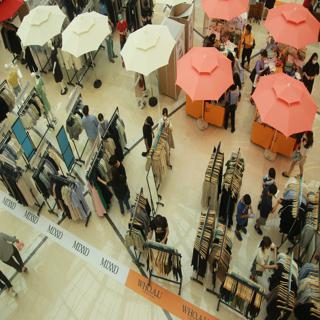person: (160, 105, 181, 170), (235, 189, 256, 240), (153, 208, 177, 250), (258, 233, 276, 288), (139, 112, 157, 165), (81, 101, 97, 154), (264, 176, 279, 232)
